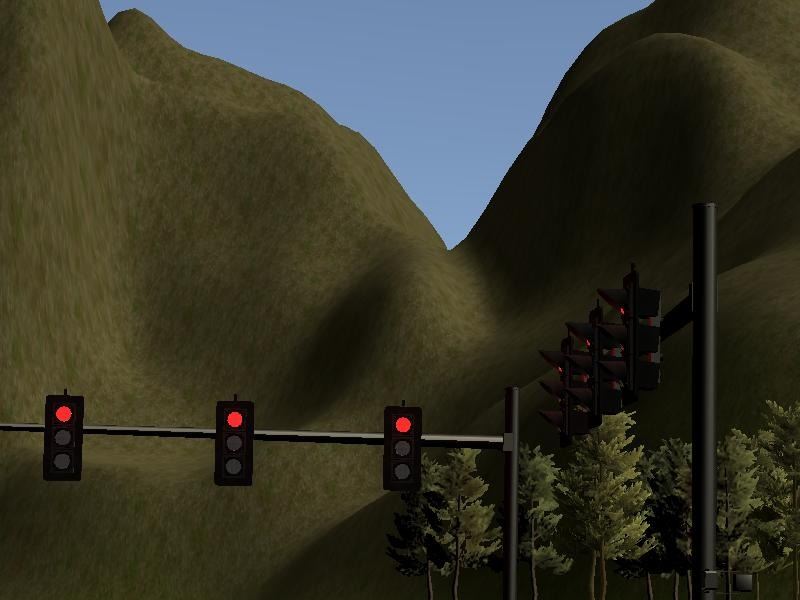red: (43, 396, 85, 481), (381, 407, 423, 492), (214, 402, 256, 487)
